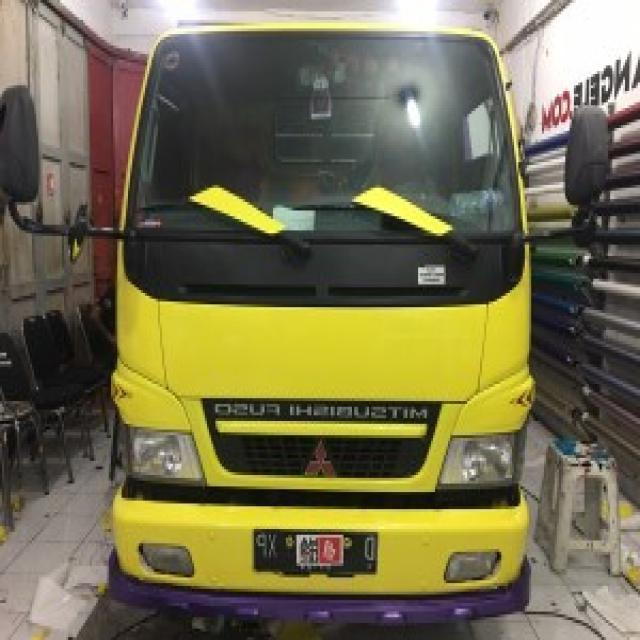truck: (2, 12, 615, 638)
